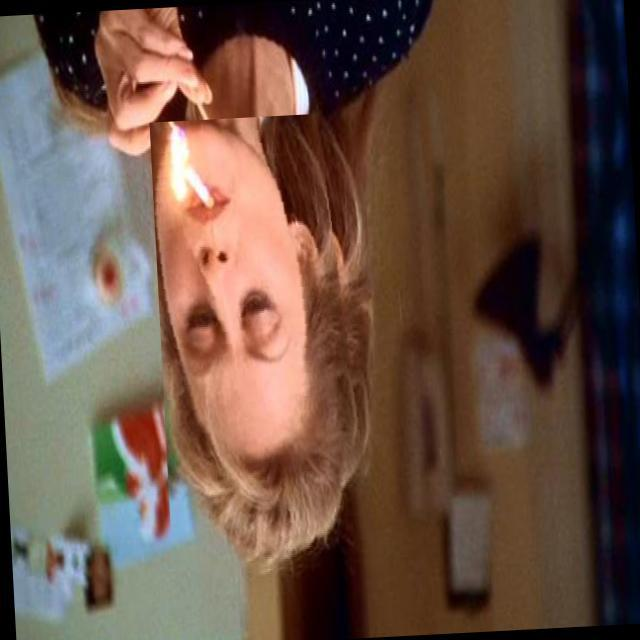cigarette: (205, 146, 249, 219)
